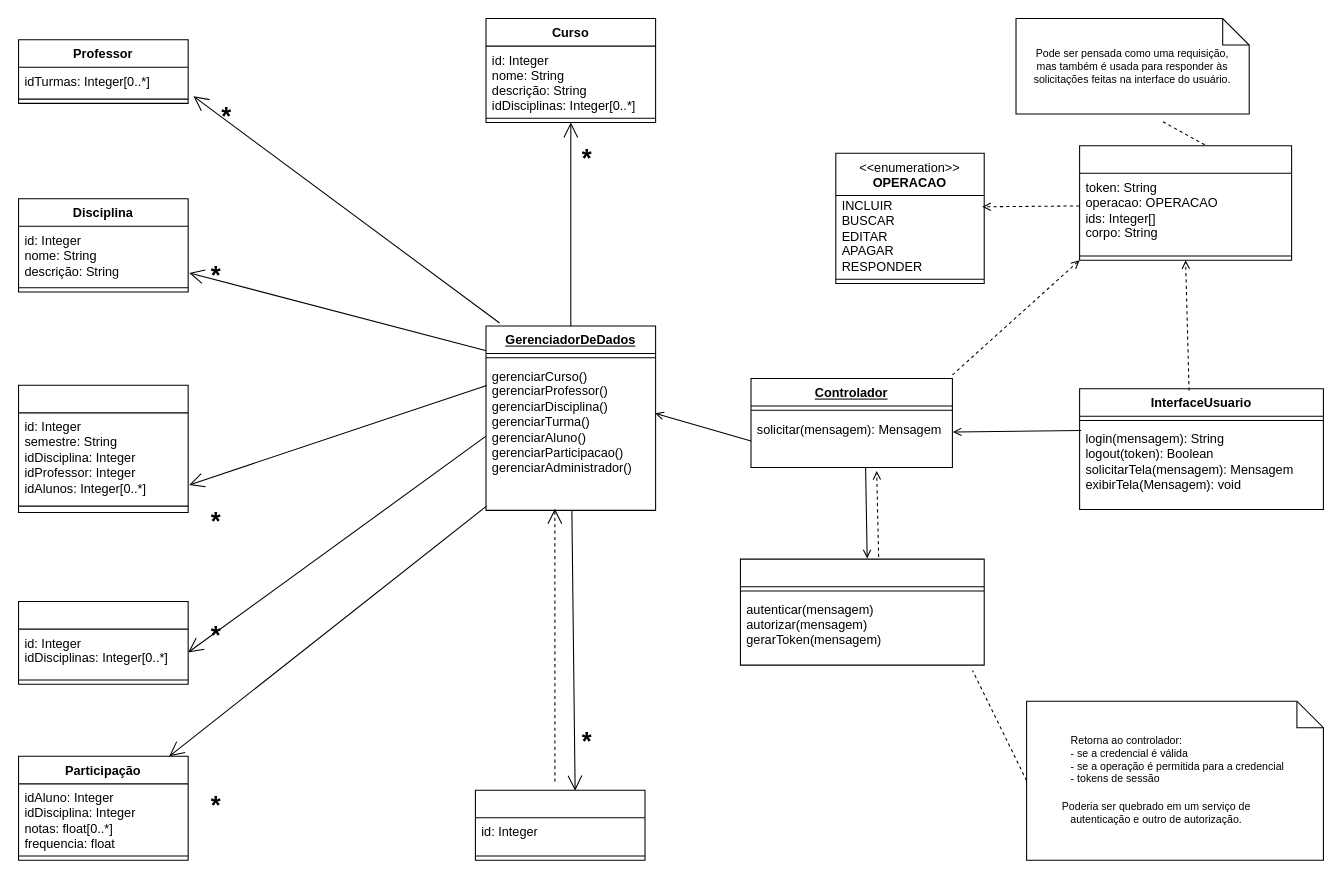
Some shapes in this 1342 by 879 pixel diagram are drawn without their labels. The shapes that lost their labels are listed below. From the top down, each one's box as (x1, y1, x2, y2) in pixels, then its label:
(1079, 145, 1292, 260): Mensagem
(17, 384, 188, 513): Turma
(739, 558, 984, 665): ServicoDeSeguranca
(17, 600, 188, 684): Aluno
(474, 789, 645, 860): Administrador
